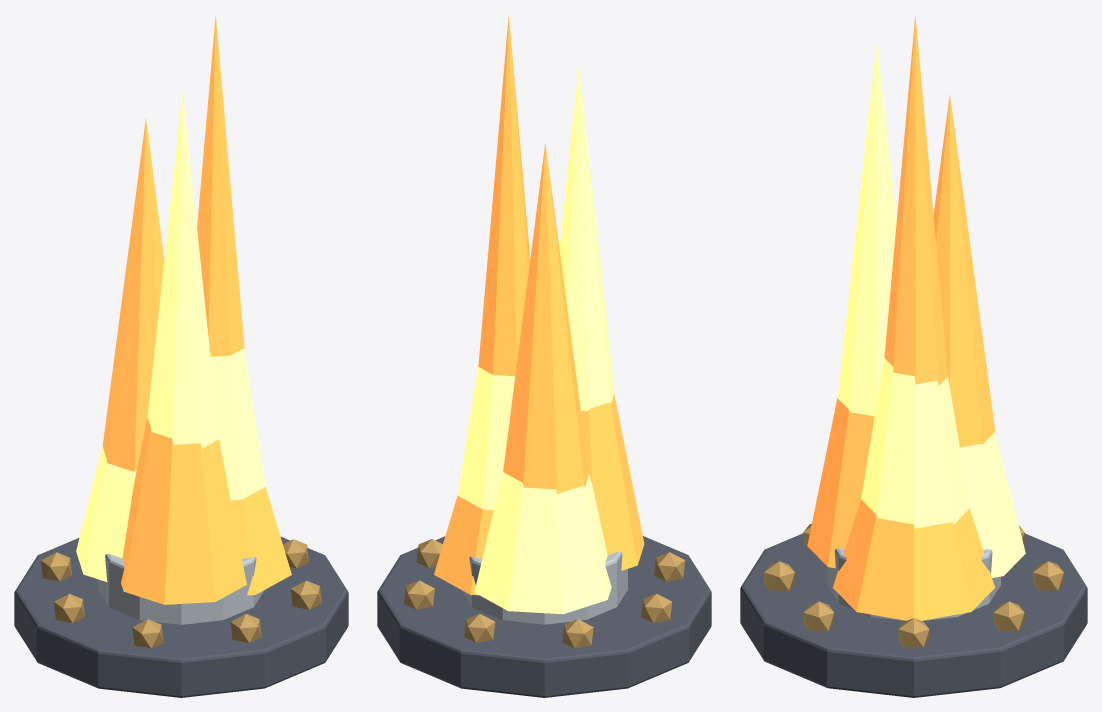
File: flame.glb
3 views of the same model, side by side, from view 1: azimuth 30°, elevation 25°; view 2: azimuth 150°, elevation 25°; view 3: azimuth 270°, elevation 25° (orthographic). The views are drawn at different scales.
Parts seen in each view (by area): view 1: FlameJet_MeshEffect, FlameJet_Base, FlameJet_Nozzle, FlameJet_Bolt.005, FlameJet_Bolt.006, FlameJet_Bolt.007, FlameJet_Bolt.003, FlameJet_Bolt.004, FlameJet_Bolt; view 2: FlameJet_MeshEffect, FlameJet_Base, FlameJet_Nozzle, FlameJet_Bolt.004, FlameJet_Bolt.005, FlameJet_Bolt.001, FlameJet_Bolt.002, FlameJet_Bolt.003, FlameJet_Bolt; view 3: FlameJet_MeshEffect, FlameJet_Base, FlameJet_Nozzle, FlameJet_Bolt, FlameJet_Bolt.001, FlameJet_Bolt.007, FlameJet_Bolt.002, FlameJet_Bolt.006.
Part boxes in pixels (bbox=[...]): FlameJet_MeshEffect: bbox=[76, 14, 291, 604]; FlameJet_Base: bbox=[14, 536, 348, 697]; FlameJet_Nozzle: bbox=[98, 554, 264, 624]; FlameJet_Bolt.005: bbox=[132, 619, 163, 648]; FlameJet_Bolt.006: bbox=[230, 614, 261, 643]; FlameJet_Bolt.007: bbox=[291, 580, 321, 609]; FlameJet_Bolt.003: bbox=[41, 552, 71, 581]; FlameJet_Bolt.004: bbox=[54, 594, 84, 622]; FlameJet_Bolt: bbox=[283, 539, 308, 568]; FlameJet_MeshEffect: bbox=[434, 15, 644, 614]; FlameJet_Base: bbox=[377, 536, 711, 697]; FlameJet_Nozzle: bbox=[461, 551, 627, 624]; FlameJet_Bolt.004: bbox=[641, 593, 672, 622]; FlameJet_Bolt.005: bbox=[654, 552, 685, 581]; FlameJet_Bolt.001: bbox=[404, 580, 434, 609]; FlameJet_Bolt.002: bbox=[464, 613, 495, 642]; FlameJet_Bolt.003: bbox=[562, 619, 593, 648]; FlameJet_Bolt: bbox=[416, 539, 442, 568]; FlameJet_MeshEffect: bbox=[807, 15, 1025, 620]; FlameJet_Base: bbox=[740, 533, 1087, 697]; FlameJet_Nozzle: bbox=[827, 548, 1000, 620]; FlameJet_Bolt: bbox=[898, 618, 929, 647]; FlameJet_Bolt.001: bbox=[993, 601, 1024, 630]; FlameJet_Bolt.007: bbox=[803, 601, 834, 630]; FlameJet_Bolt.002: bbox=[1033, 561, 1063, 590]; FlameJet_Bolt.006: bbox=[764, 561, 794, 590].
Bounding box in the file's own units: 1.24 × 2.48 × 1.24.
